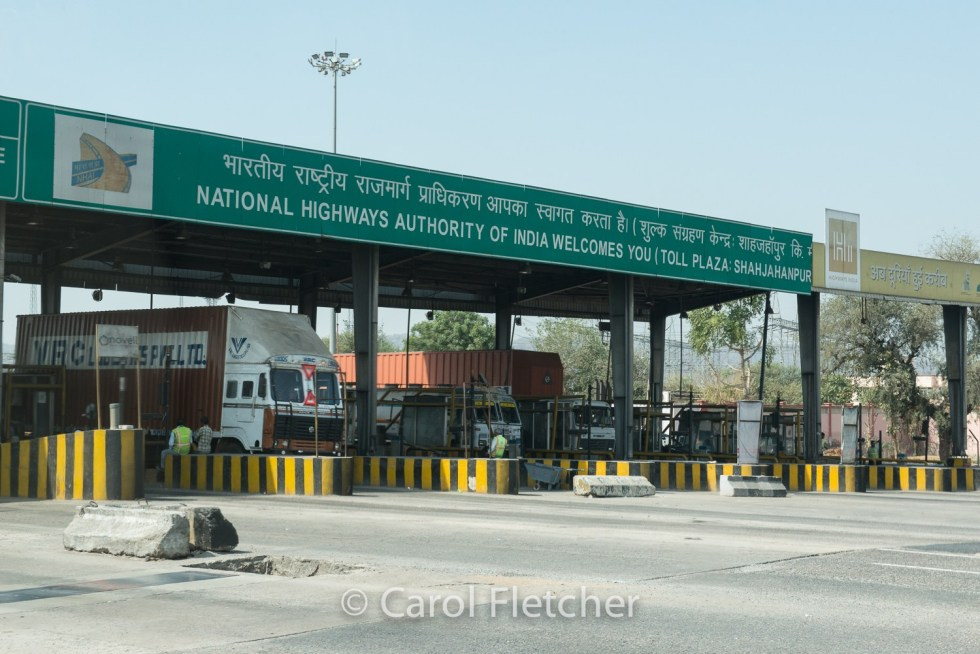toll plaza: (181, 105, 819, 301)
